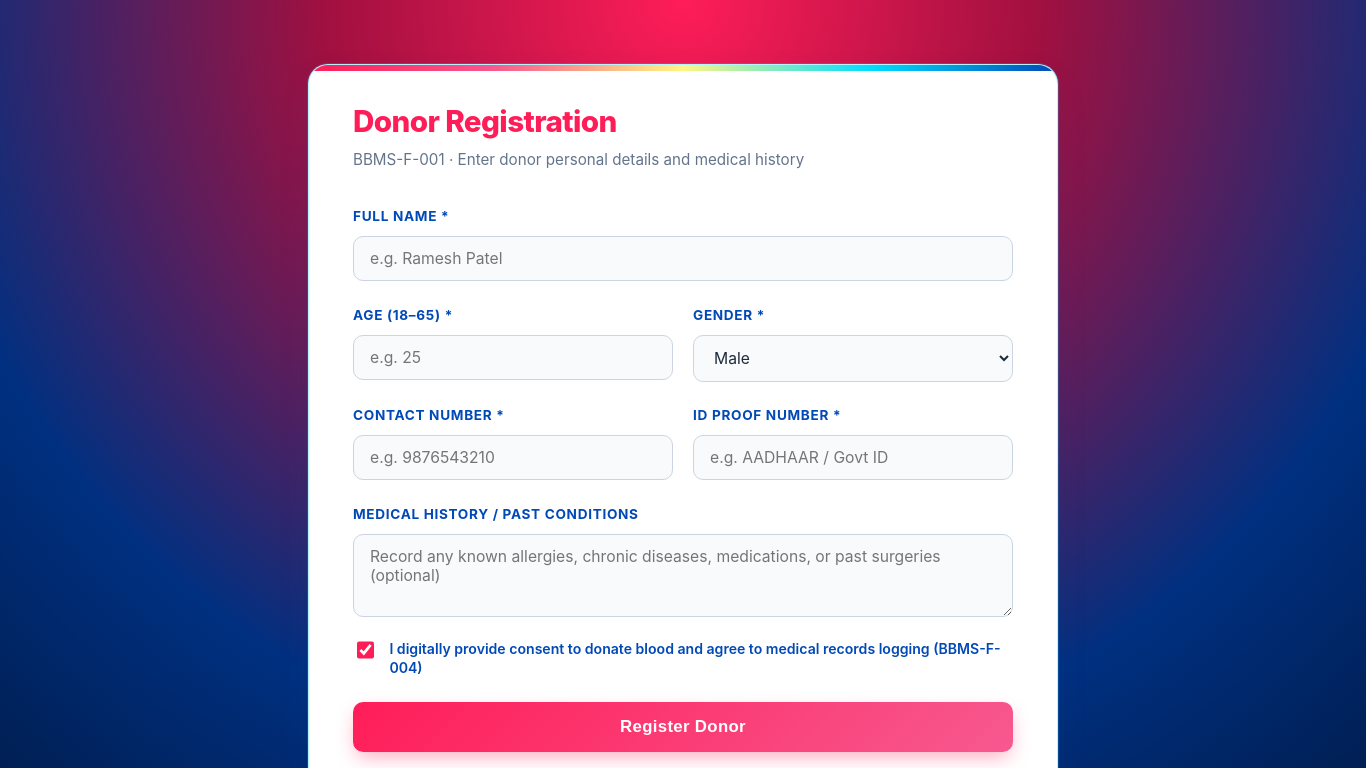
Test case: TC-Reg-01, TC-Reg-03 & TC-Reg-04: DonorRegistrationForm (client) › handles 409 conflict when duplicate ID proof is used
The width and height of the screenshot is (1366, 768).
Step 1. Type "Ramesh Patel" into the field labelled "Full Name *" → {"x": 683, "y": 259}, box [353, 236, 1013, 281]
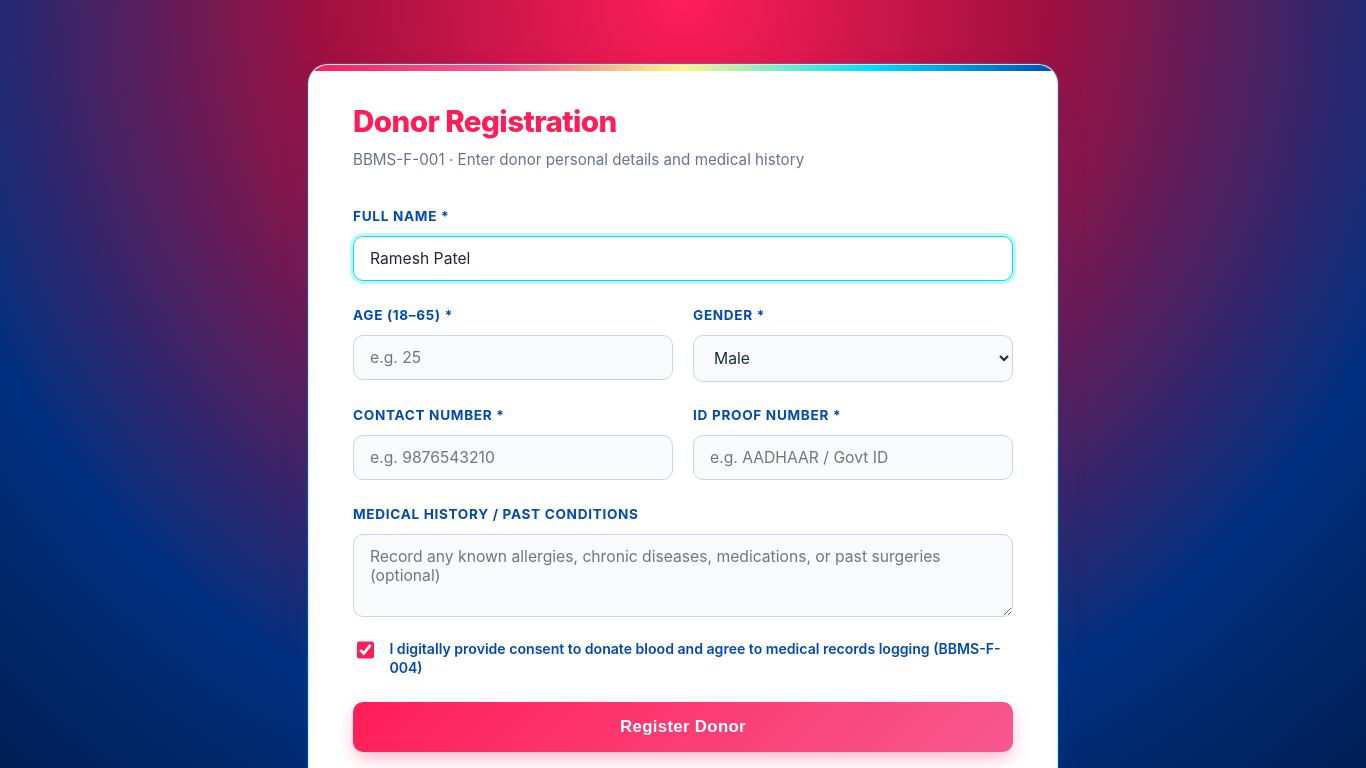
Step 2. Type "28" into the number field labelled "Age (18–65) *" → {"x": 513, "y": 357}, box [353, 335, 673, 380]
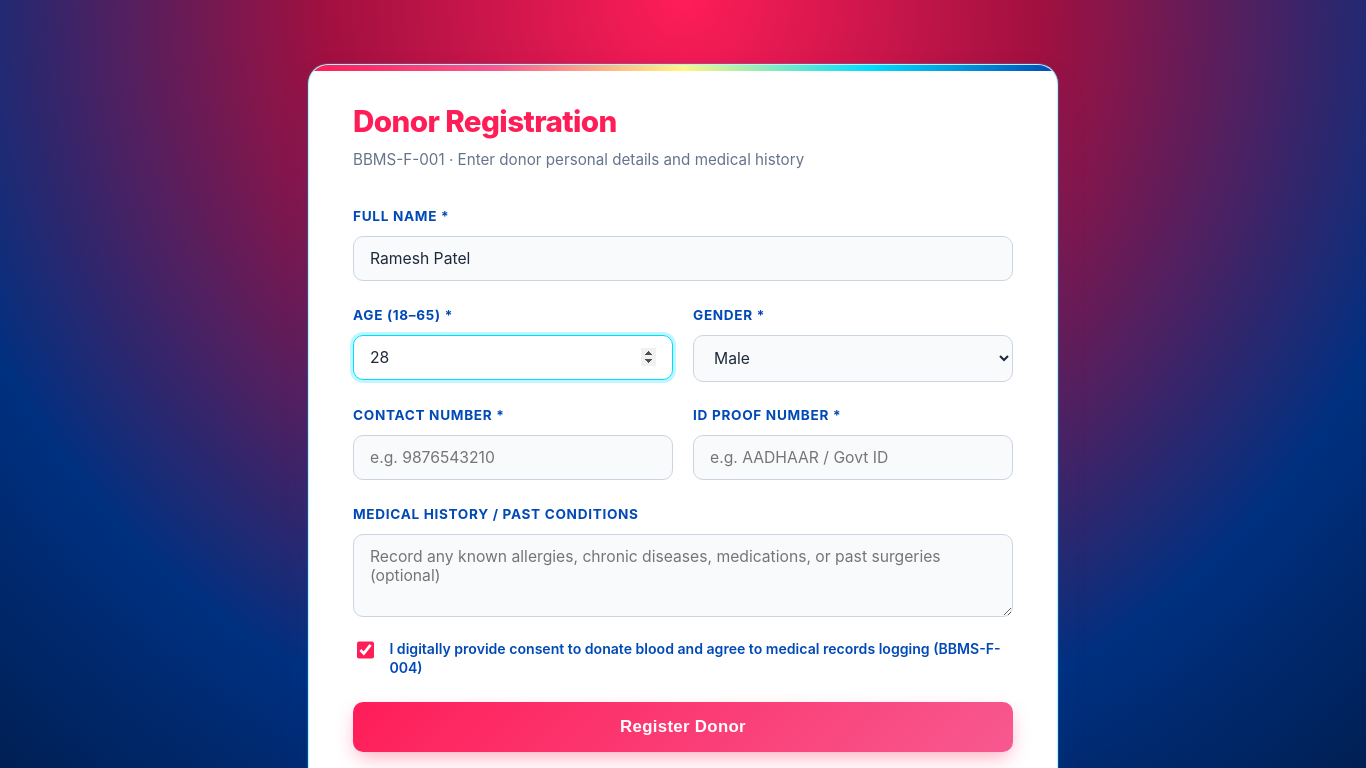
Step 3. Type "9876543210" into the field labelled "Contact Number *" → {"x": 513, "y": 458}, box [353, 435, 673, 480]
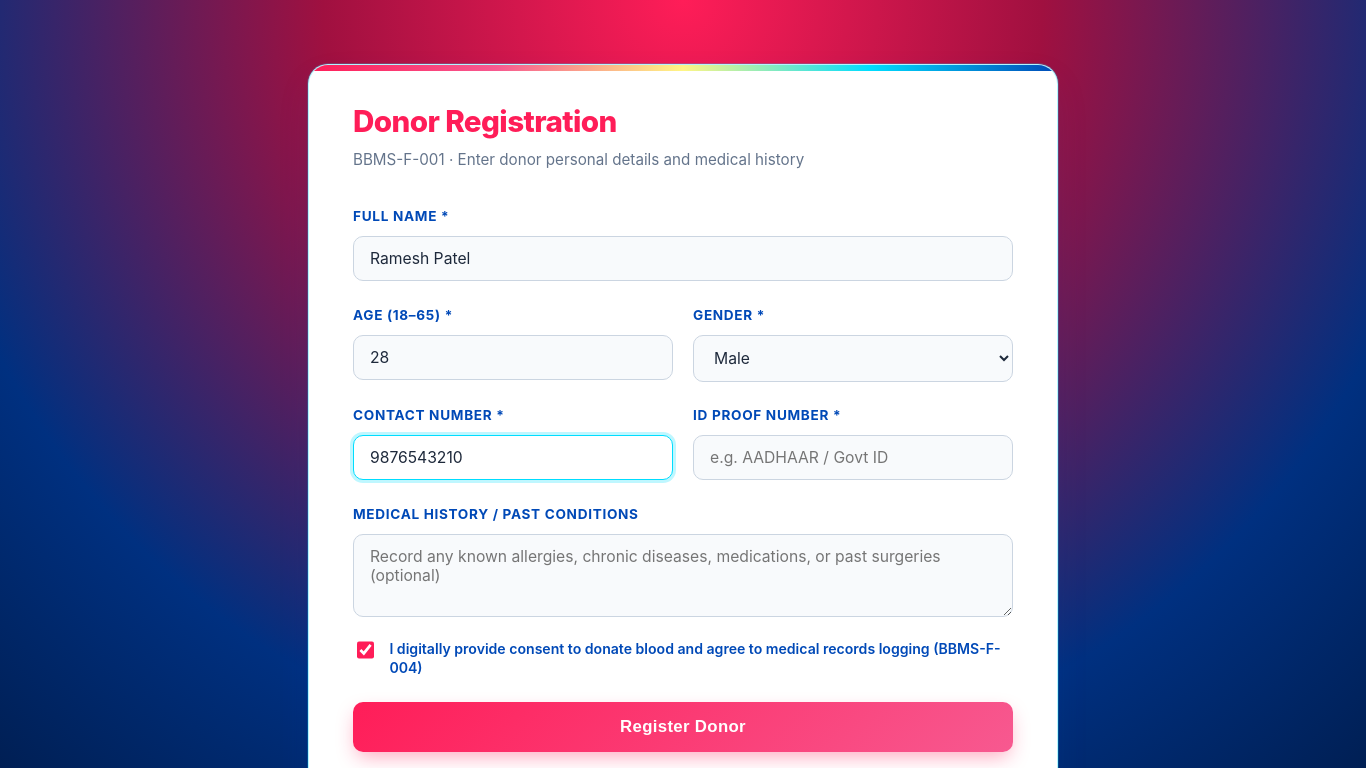
Step 4. Type "DUPLICATE-ID" into the field labelled "ID Proof Number *" → {"x": 853, "y": 458}, box [693, 435, 1013, 480]
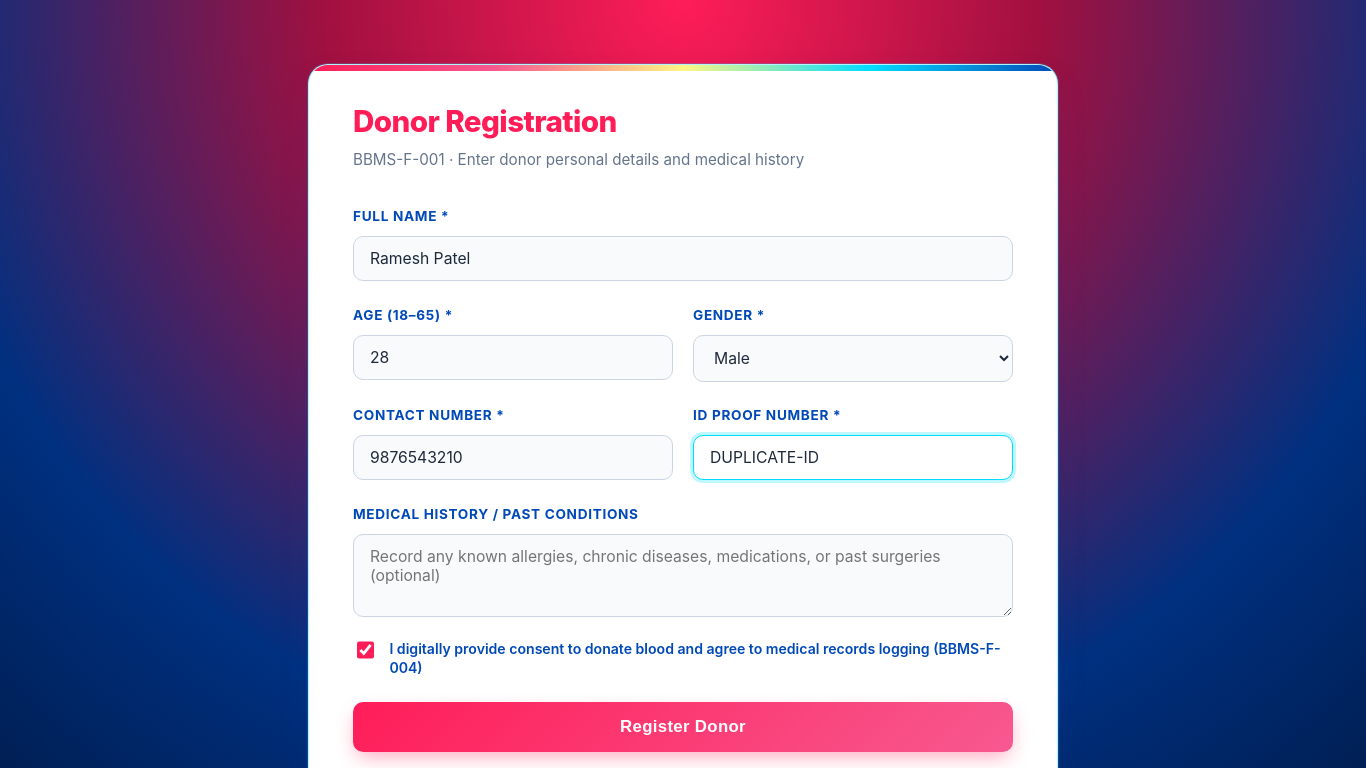
Step 5. Click the button "Register Donor" → {"x": 683, "y": 727}, box [353, 702, 1013, 752]
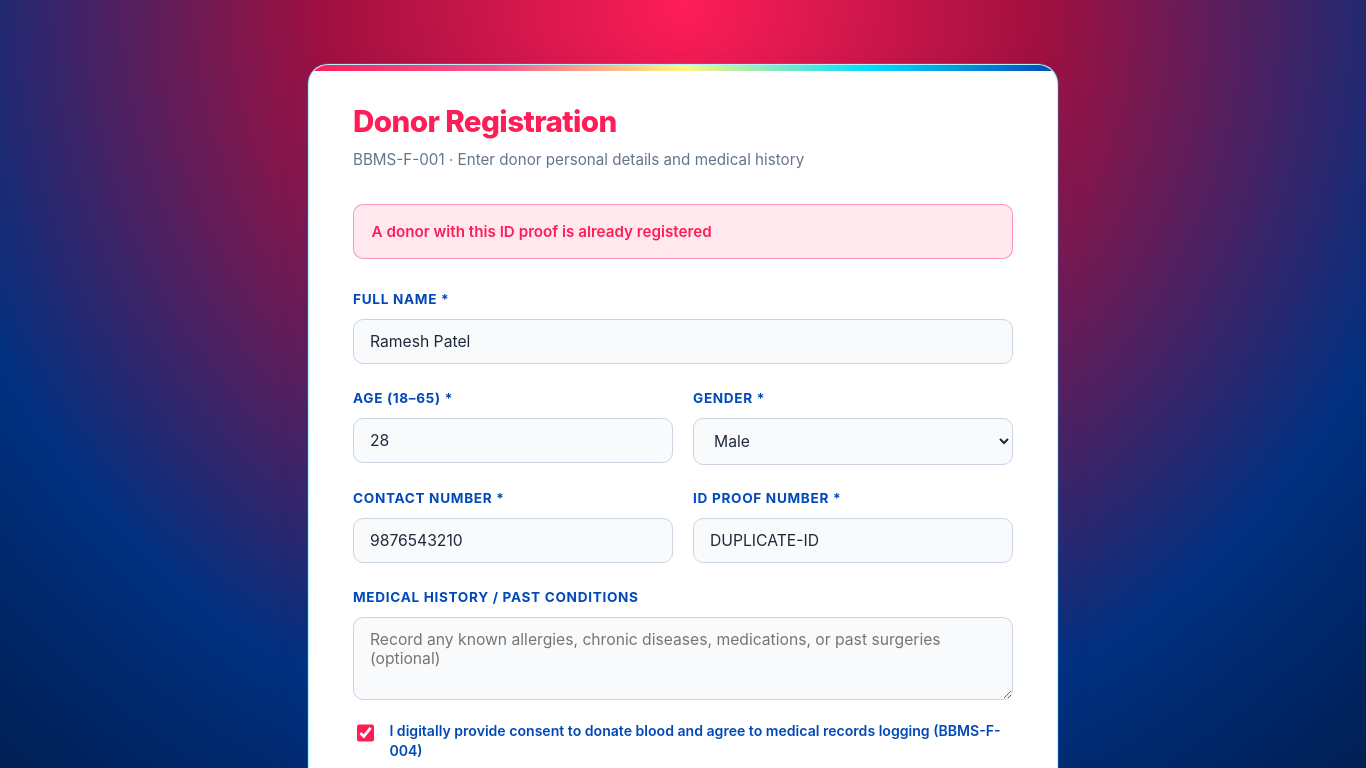
Now the message with test id "general-error" shows "already registered", box [372, 222, 712, 241]
